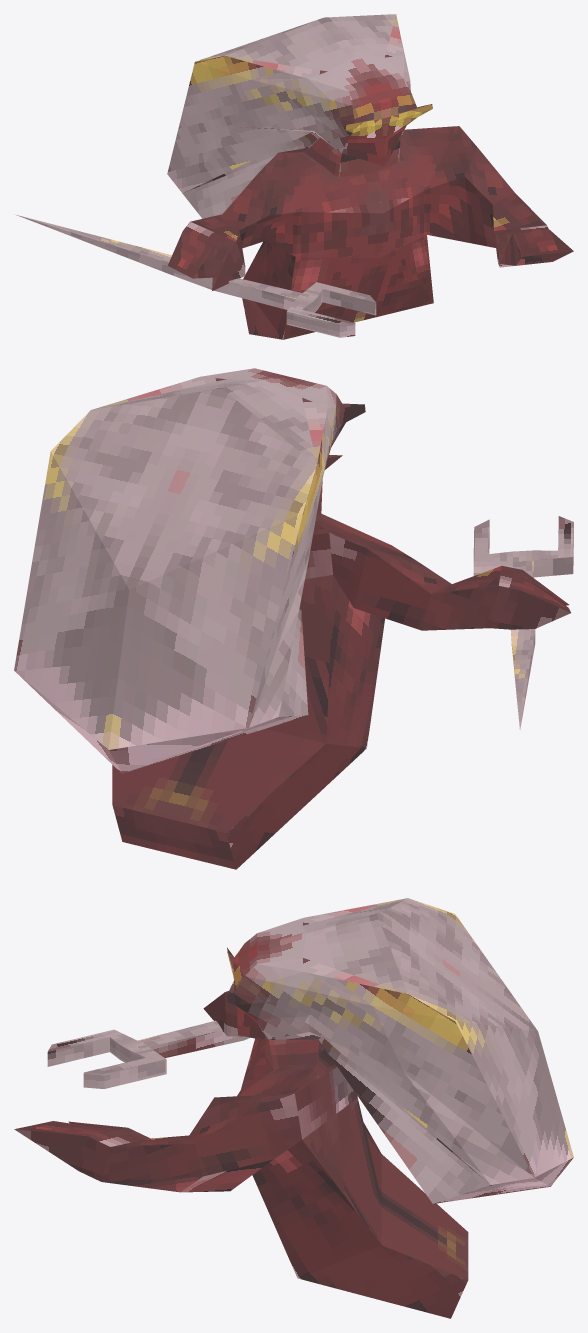
Rendered from old_god.glb.
3 views of the same model, one above another, from view 1: azimuth 30°, elevation 25°; view 2: azimuth 150°, elevation 25°; view 3: azimuth 270°, elevation 25° (orthographic). The views are drawn at different scales.
Visible parts, largest first — view 1: Cube; view 2: Cube; view 3: Cube.
Part boxes in pixels (left/top/right/bottom): Cube: left=16, top=14, right=573, bottom=339; Cube: left=14, top=368, right=573, bottom=869; Cube: left=14, top=898, right=573, bottom=1318.
Size of the model in its own units: 7.47 by 6.16 by 8.22.
1 material, 1 textured.
